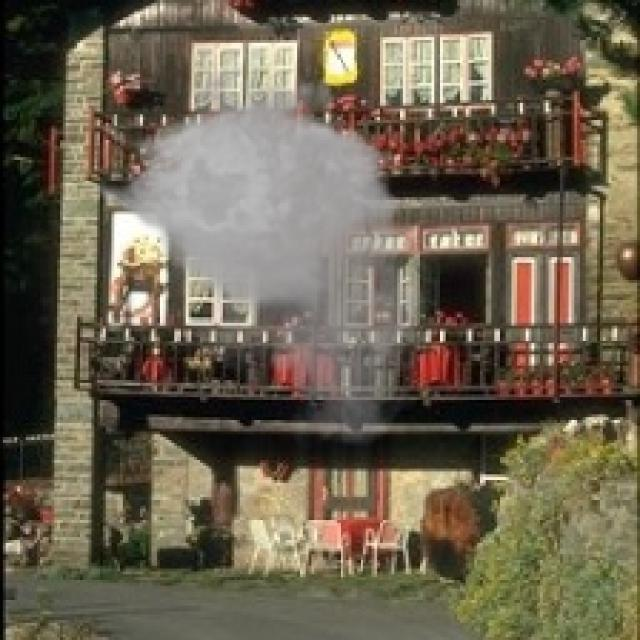smoke: (74, 51, 437, 452)
